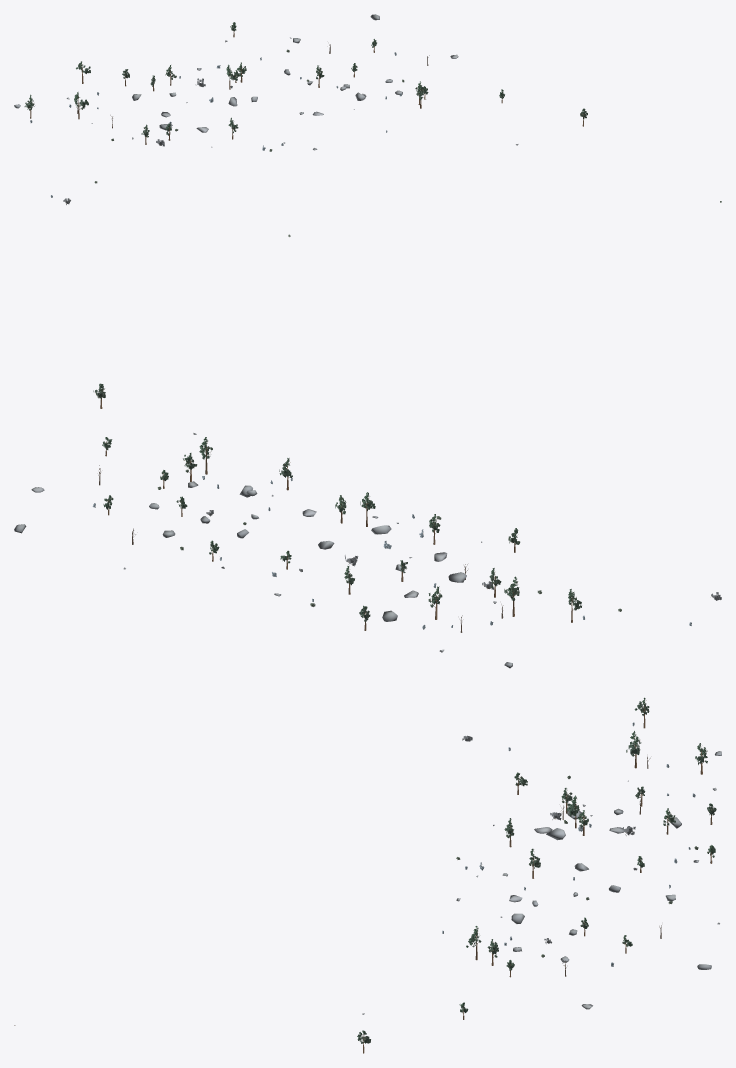
Rendered from frost_land_scatter_c20_10.glb.
3 views of the same model, one above another, from view 1: azimuth 30°, elevation 25°; view 2: azimuth 150°, elevation 25°; view 3: azimuth 270°, elevation 25° (orthographic). The views are drawn at different scales.
Visible parts, largest first — view 1: frost_land_scatter_c20_10; view 2: frost_land_scatter_c20_10; view 3: frost_land_scatter_c20_10.
Boxes of the visible parts, x1=… form: frost_land_scatter_c20_10: x1=14, y1=14, x2=721, y2=204; frost_land_scatter_c20_10: x1=14, y1=234, x2=721, y2=668; frost_land_scatter_c20_10: x1=14, y1=697, x2=721, y2=1053.
Size of the model in its own units: 254 by 34.94 by 249.
